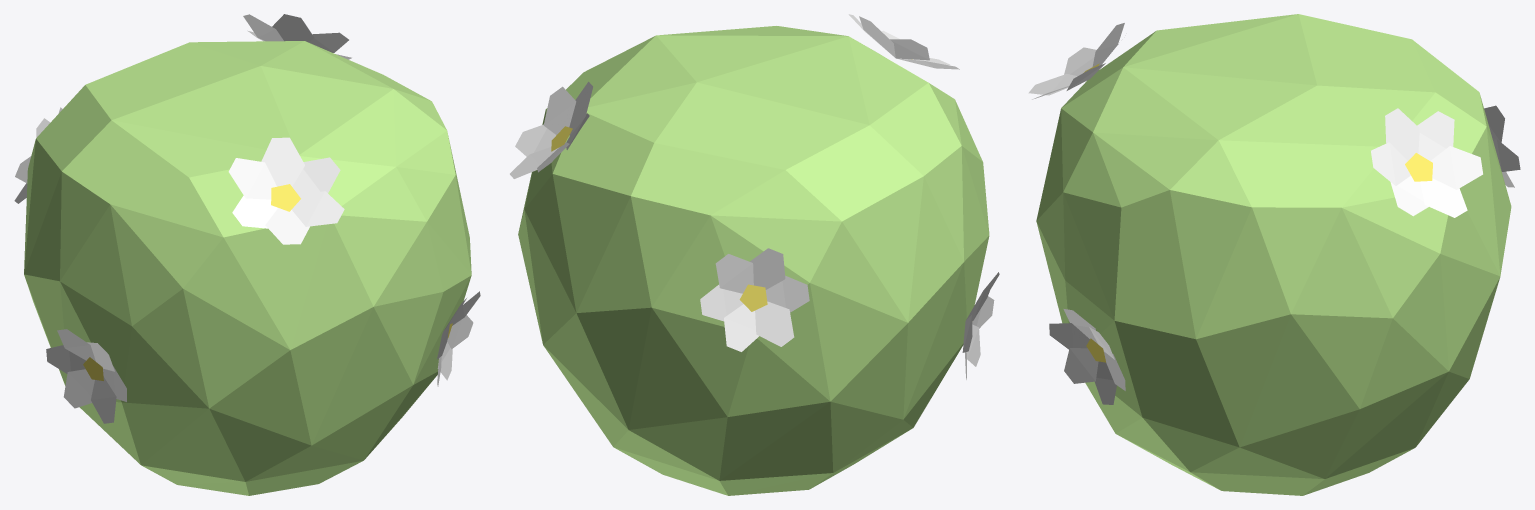
The model's file is FlowerBush_a_m_06.fbx.
3 views of the same model, side by side, from view 1: azimuth 30°, elevation 25°; view 2: azimuth 150°, elevation 25°; view 3: azimuth 270°, elevation 25° (orthographic). The views are drawn at different scales.
Visible parts, largest first — view 1: FlowerBush_a_m_06; view 2: FlowerBush_a_m_06; view 3: FlowerBush_a_m_06.
Boxes of the visible parts, x1=… form: FlowerBush_a_m_06: x1=14, y1=14, x2=480, y2=495; FlowerBush_a_m_06: x1=510, y1=14, x2=999, y2=495; FlowerBush_a_m_06: x1=1028, y1=14, x2=1520, y2=495.
Size of the model in its own units: 152 by 145 by 152.
